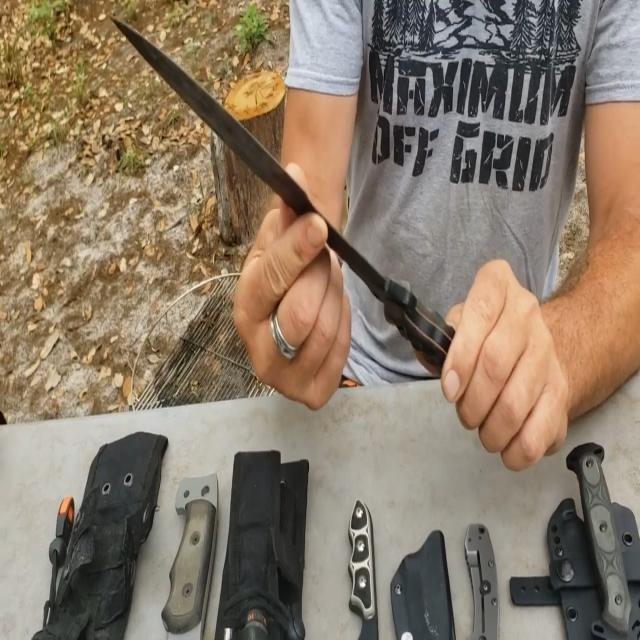knife: (116, 6, 438, 334)
